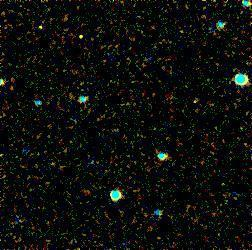star: (68, 19, 98, 49)
